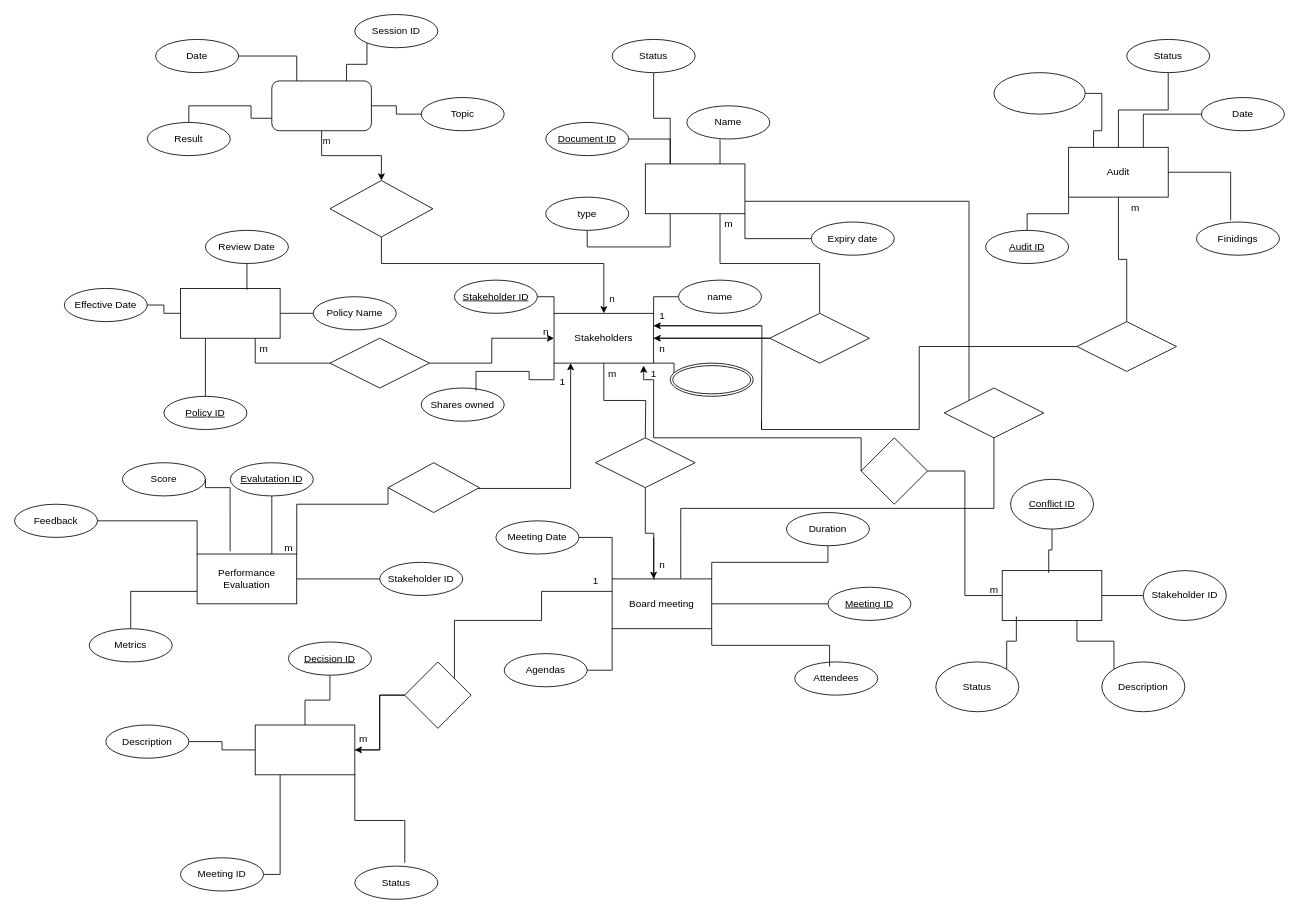
Some shapes in this 1299 by 914 pixel diagram are drawn without their labels. The box of each missing label's shape, as (x1, y1, x2, y2) in pixels:
\Recommendations: (993, 72, 1085, 114)
Compliance Document: (644, 163, 745, 214)
Conflict of Interest: (1001, 570, 1102, 620)
Contact info: (669, 362, 753, 396)
Decisions: (254, 724, 355, 775)
Involves: (329, 180, 433, 237)
Is approved by: (329, 337, 430, 388)
is conducted by: (1076, 321, 1177, 371)
Is conducted for: (387, 462, 479, 513)
Is disclosed by: (860, 437, 928, 504)
Is linked: (769, 312, 869, 363)
Leads to: (404, 661, 471, 728)
Makes: (943, 387, 1044, 438)
Participates: (595, 437, 695, 488)
Policy: (180, 288, 280, 338)
Voting session: (271, 80, 371, 131)
